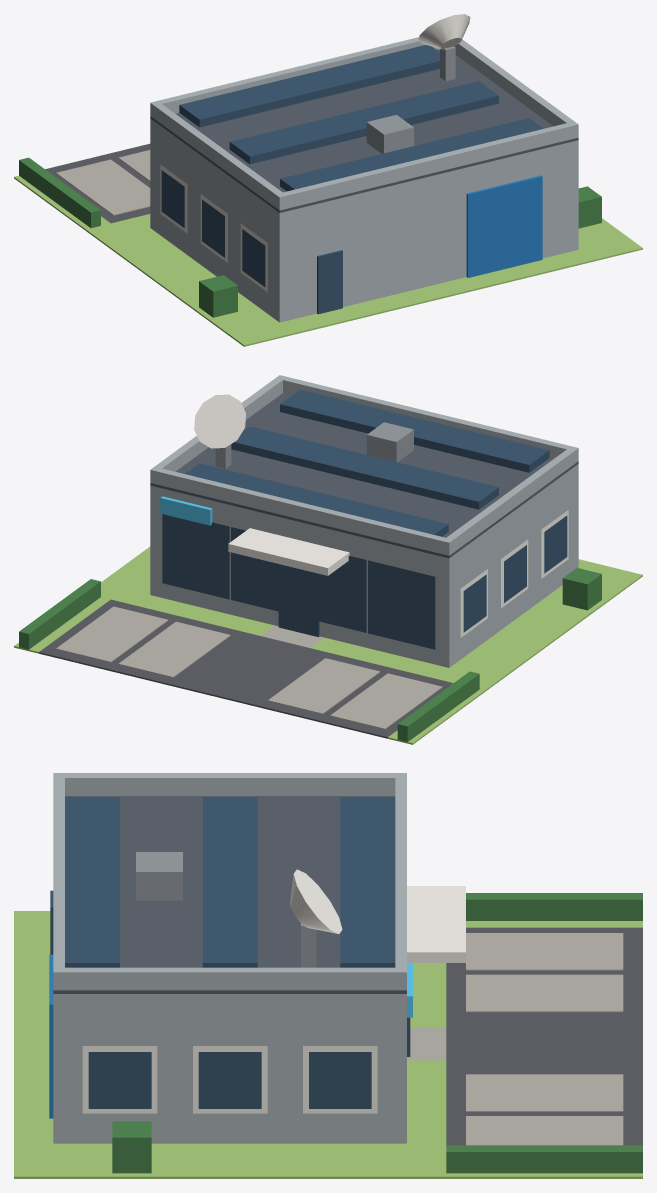
The picture shows the model from 3 angles, top to bottom: view 1: azimuth 30°, elevation 25°; view 2: azimuth 150°, elevation 25°; view 3: azimuth 270°, elevation 25°; orthographic projection. The views are drawn at different scales.
Parts seen in each view (by area): view 1: wall, solar_panel (×3), lawn (×3), roof, parapet (×4), garage_door, parking_bay (×2), window_glass (×3), tree_spot (×2), hedge, asphalt, door (+4 smaller); view 2: wall, solar_panel (×3), window_band (×4), lawn (×5), roof, parking_bay (×4), parapet (×4), asphalt, hedge (×2), canopy, window_glass (×3), door (+5 smaller); view 3: wall, lawn (×5), solar_panel (×3), roof, parking_bay (×4), parapet (×4), asphalt, window_glass (×3), hedge (×2), window_frame (×3), canopy, ac_unit (+5 smaller).
Boxes of the visible parts, bbox=[...] form: wall: bbox=[150, 118, 578, 322]; solar_panel (×3): bbox=[179, 45, 543, 191]; lawn (×3): bbox=[14, 175, 642, 346]; roof: bbox=[150, 49, 578, 212]; parapet (×4): bbox=[150, 37, 578, 210]; garage_door: bbox=[466, 175, 542, 277]; parking_bay (×2): bbox=[56, 150, 150, 215]; window_glass (×3): bbox=[161, 170, 265, 286]; tree_spot (×2): bbox=[199, 186, 601, 317]; hedge: bbox=[19, 157, 100, 227]; asphalt: bbox=[45, 143, 150, 223]; door: bbox=[317, 250, 342, 314]; wall: bbox=[150, 464, 578, 667]; solar_panel (×3): bbox=[185, 389, 549, 536]; window_band (×4): bbox=[162, 514, 435, 649]; lawn (×5): bbox=[14, 546, 642, 744]; roof: bbox=[150, 393, 578, 558]; parking_bay (×4): bbox=[56, 606, 442, 729]; parapet (×4): bbox=[150, 375, 578, 555]; asphalt: bbox=[39, 599, 453, 738]; hedge (×2): bbox=[19, 579, 479, 741]; canopy: bbox=[228, 528, 349, 575]; window_glass (×3): bbox=[463, 515, 567, 632]; door: bbox=[278, 564, 319, 636]; wall: bbox=[53, 994, 406, 1143]; lawn (×5): bbox=[14, 911, 642, 1178]; solar_panel (×3): bbox=[65, 797, 395, 967]; roof: bbox=[53, 796, 406, 993]; parking_bay (×4): bbox=[466, 933, 623, 1145]; parapet (×4): bbox=[53, 773, 406, 990]; asphalt: bbox=[446, 927, 642, 1145]; window_glass (×3): bbox=[88, 1052, 371, 1108]; hedge (×2): bbox=[446, 893, 642, 1173]; window_frame (×3): bbox=[82, 1046, 377, 1113]; canopy: bbox=[407, 886, 465, 962]; ac_unit: bbox=[136, 852, 182, 900].
Bounding box in the file's own units: 16 × 6.93 × 16.
